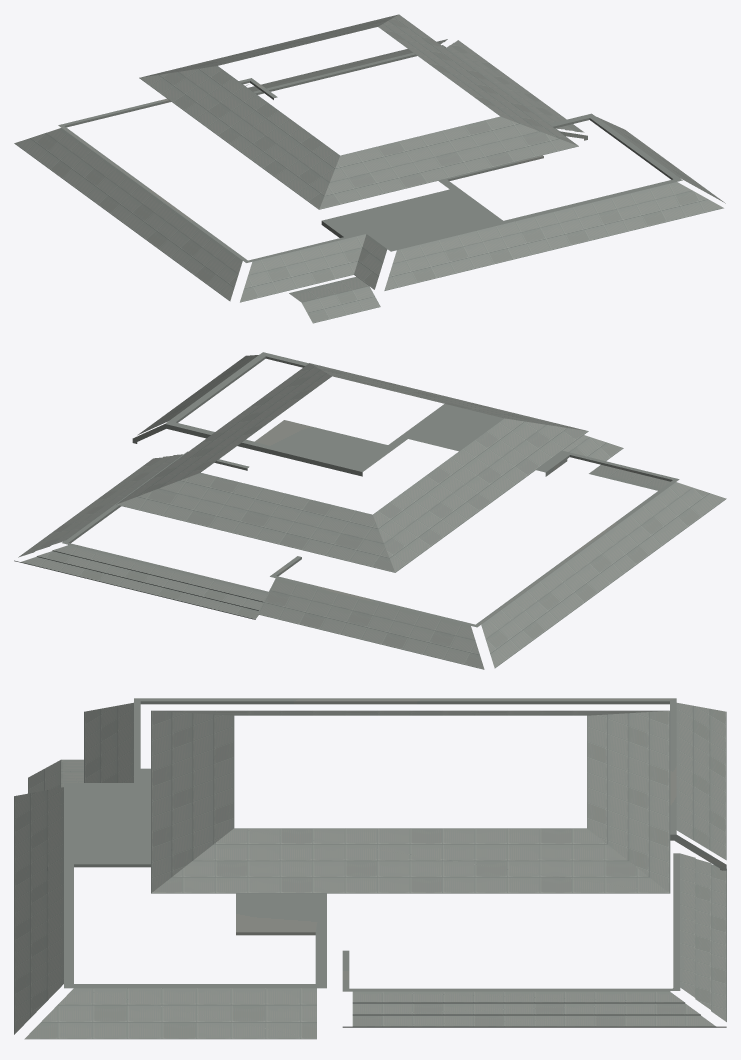
Rendered from kd_stage_135d18_4_96_bounded.glb.
3 views of the same model, one above another, from view 1: azimuth 30°, elevation 25°; view 2: azimuth 150°, elevation 25°; view 3: azimuth 270°, elevation 25° (orthographic). The views are drawn at different scales.
Visible parts, largest first — view 1: kd_stage_135d18_4_96_bounded; view 2: kd_stage_135d18_4_96_bounded; view 3: kd_stage_135d18_4_96_bounded.
Boxes of the visible parts, x1=… form: kd_stage_135d18_4_96_bounded: x1=14, y1=14, x2=725, y2=323; kd_stage_135d18_4_96_bounded: x1=14, y1=352, x2=726, y2=669; kd_stage_135d18_4_96_bounded: x1=14, y1=698, x2=726, y2=1039.
Bounding box in the file's own units: 11.8 × 2.18 × 10.71.
1 material, 1 textured.
